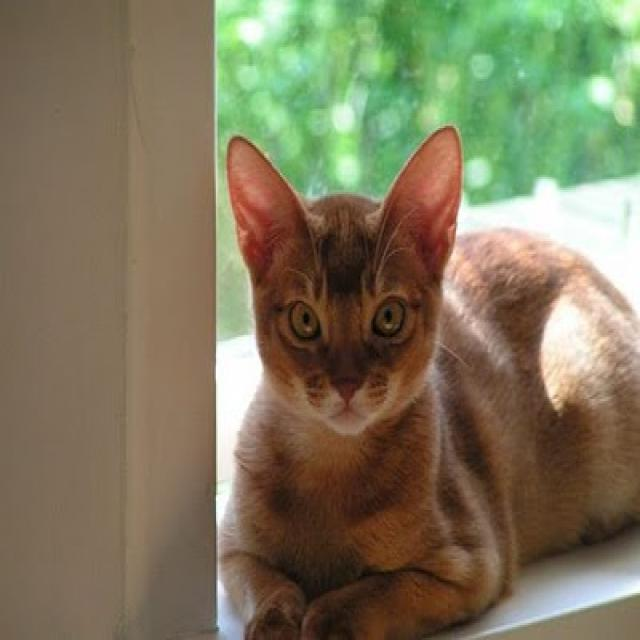Abyssinian: (224, 124, 461, 433)
